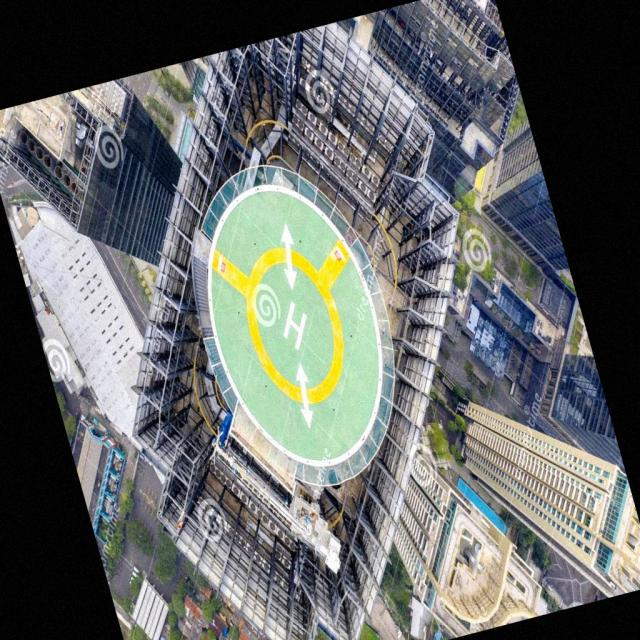helipad: (238, 245, 350, 408)
